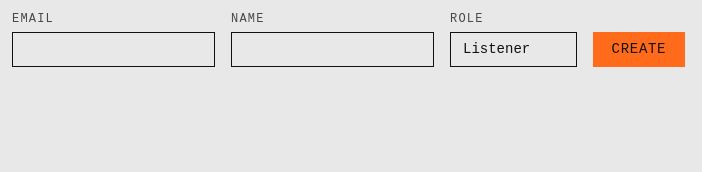
it: NewUserForm › recovers when createUser throws (network drop)
Type "a@b.co" into the field labelled "Email". click: (114, 49)
box: [12, 32, 215, 67]
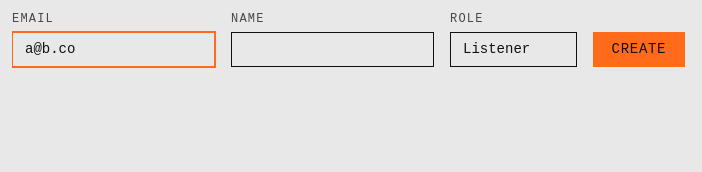
Click the button "Create". click: (639, 49)
box: [593, 32, 685, 67]
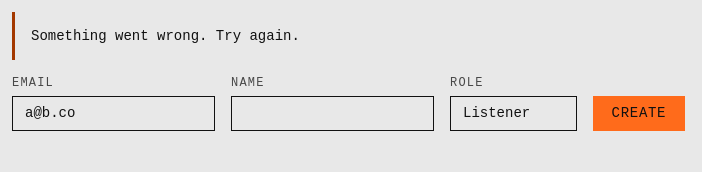
Check: the button "Create" is enabled, box [593, 96, 685, 131]
Check: the message shows "Something went wrong", box [31, 28, 300, 44]
